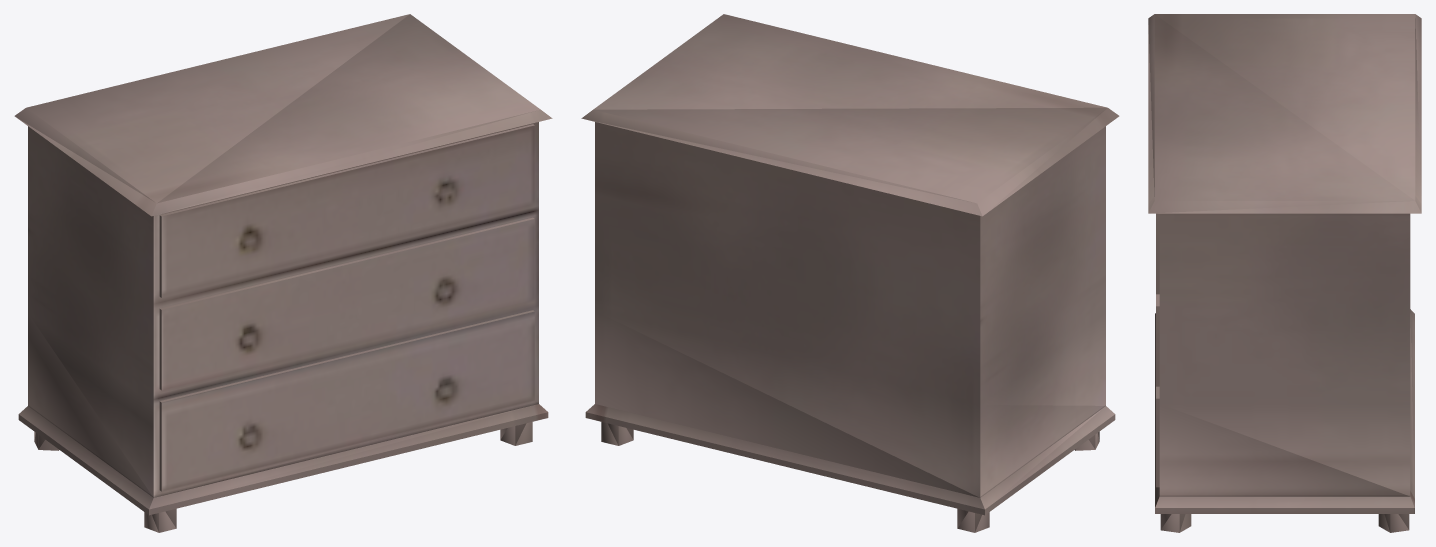
File: comoda_b.glb
3 views of the same model, side by side, from view 1: azimuth 30°, elevation 25°; view 2: azimuth 150°, elevation 25°; view 3: azimuth 270°, elevation 25° (orthographic).
Parts seen in each view (by area): view 1: comoda_b; view 2: comoda_b; view 3: comoda_b.
Boxes of the visible parts, x1,y1,x2,y2 form: comoda_b: (14,14,552,532); comoda_b: (581,14,1119,532); comoda_b: (1148,14,1421,532).
Size of the model in its own units: 1.2 by 0.9523 by 0.7108.
Materials: 1 (1 with a texture image).
